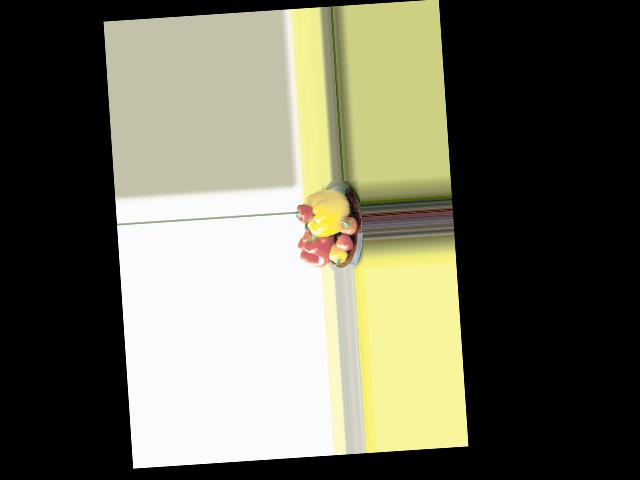bell_pepper: (327, 245, 347, 265)
